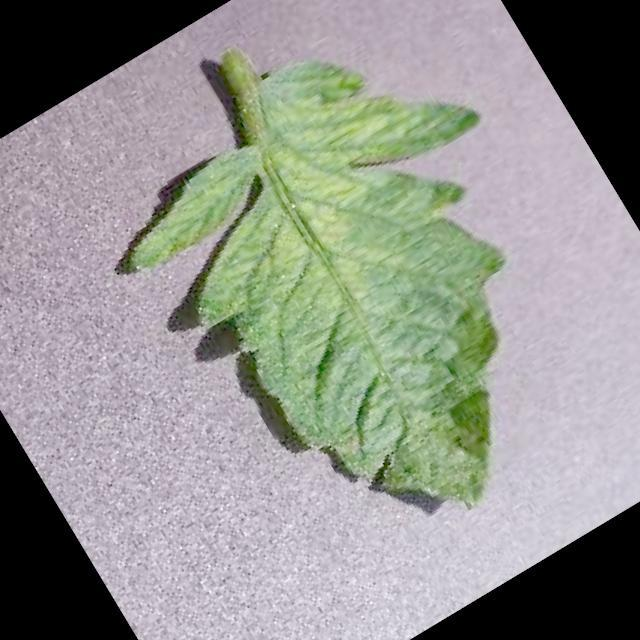Tomato mosaic virus leaf: (81, 0, 640, 598)
